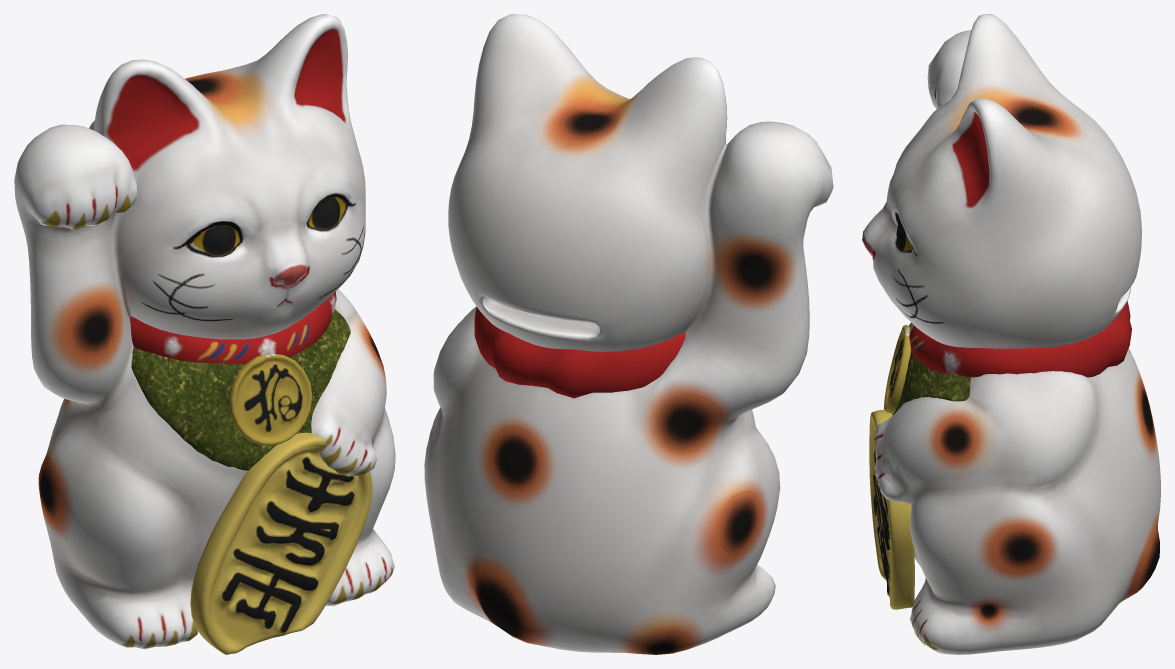
Rendered from hello-cat.glb.
3 views of the same model, side by side, from view 1: azimuth 30°, elevation 25°; view 2: azimuth 150°, elevation 25°; view 3: azimuth 270°, elevation 25° (orthographic). The views are drawn at different scales.
Visible parts, largest first — view 1: Object_2; view 2: Object_2; view 3: Object_2.
Boxes of the visible parts, x1,y1,x2,y2 form: Object_2: (14, 14, 395, 654); Object_2: (424, 14, 833, 654); Object_2: (862, 14, 1160, 654).
Bounding box in the file's own units: 202 × 298 × 150.
Materials: 1 (1 with a texture image).
